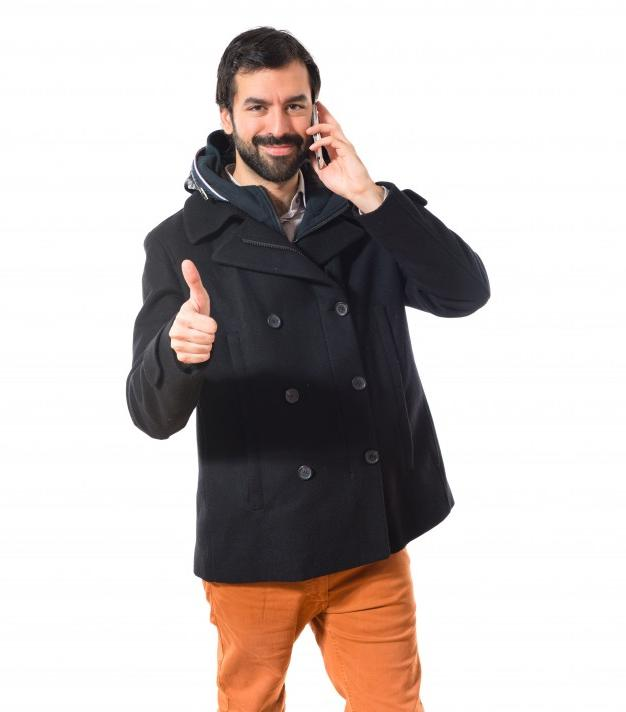thumbsup: (169, 259, 218, 364)
